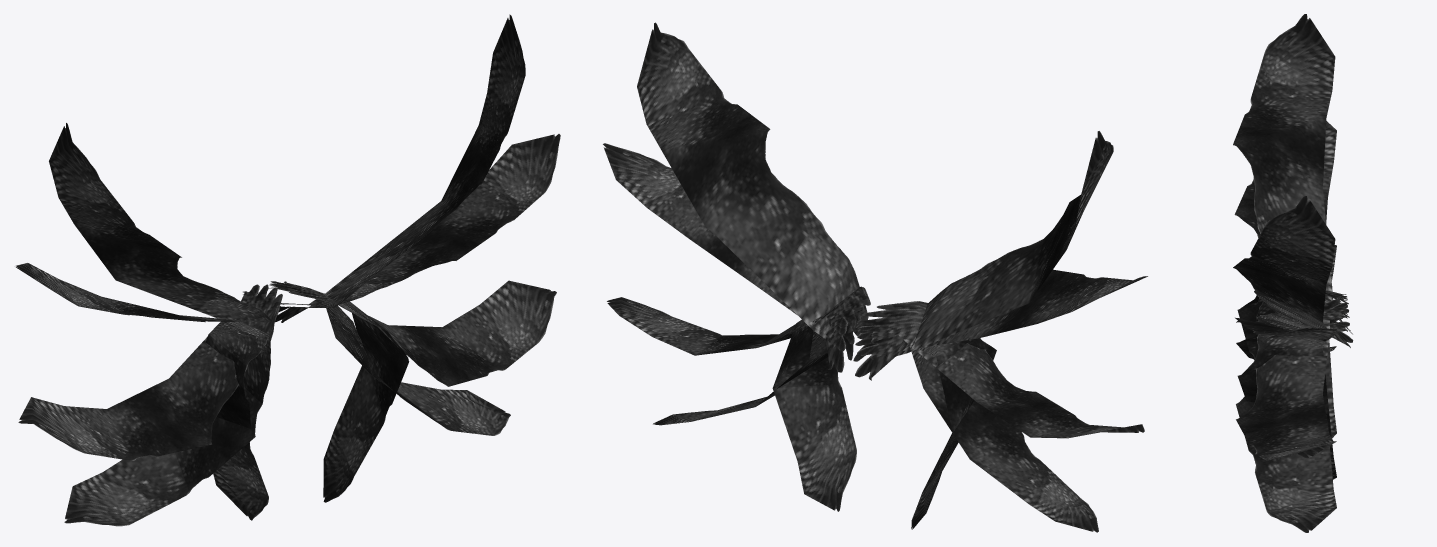
Rendered from crowns.fbx.
3 renders of one model, left to right at view 1: azimuth 30°, elevation 25°; view 2: azimuth 150°, elevation 25°; view 3: azimuth 270°, elevation 25°, orthographic. The views are drawn at different scales.
Visible parts, largest first — view 1: crown_3, crown_1, crown_4, crown_5, crown_2; view 2: crown_1, crown_3, crown_5, crown_2, crown_4; view 3: crown_1, crown_3, crown_4, crown_5, crown_2.
Part boxes in pixels (x1,y1,x2,y2): crown_3: [18, 280, 556, 460]; crown_1: [49, 14, 525, 322]; crown_4: [64, 283, 510, 526]; crown_5: [206, 281, 409, 520]; crown_2: [16, 134, 560, 322]; crown_1: [637, 22, 1113, 380]; crown_3: [607, 287, 1144, 438]; crown_5: [772, 286, 996, 529]; crown_2: [603, 143, 1147, 359]; crown_4: [653, 292, 1098, 532]; crown_1: [1233, 14, 1353, 347]; crown_3: [1236, 245, 1348, 460]; crown_4: [1236, 294, 1347, 532]; crown_5: [1237, 291, 1347, 479]; crown_2: [1234, 121, 1349, 341].
Size of the model in its own units: 7.83 by 6.09 by 3.45.
Materials: 1 (1 with a texture image).
